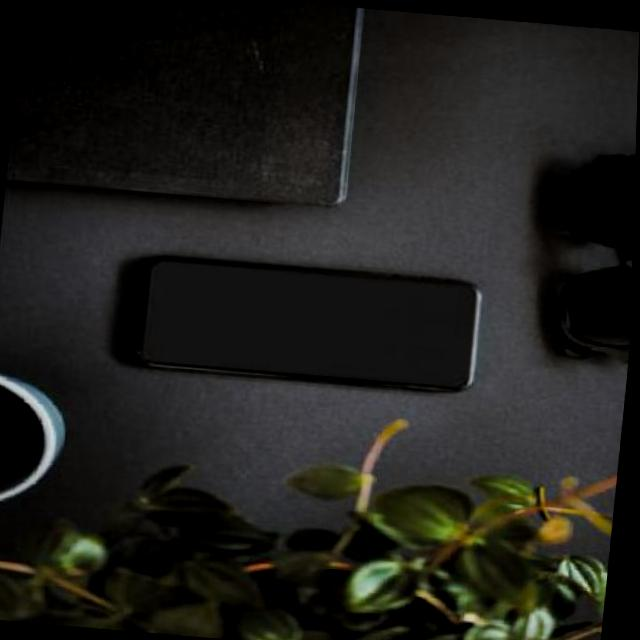Smartphone: (124, 251, 490, 396)
